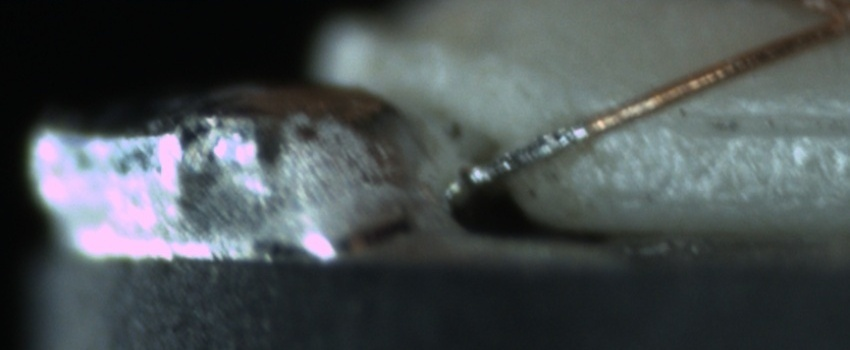CL: (800, 2, 846, 44)
DL: (631, 84, 846, 158)
TS: (463, 119, 591, 189)
TTCW: (458, 95, 630, 192)
